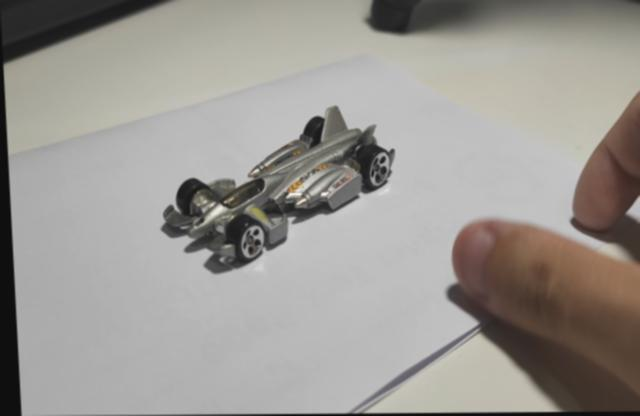05_DC121: (156, 107, 396, 275)
